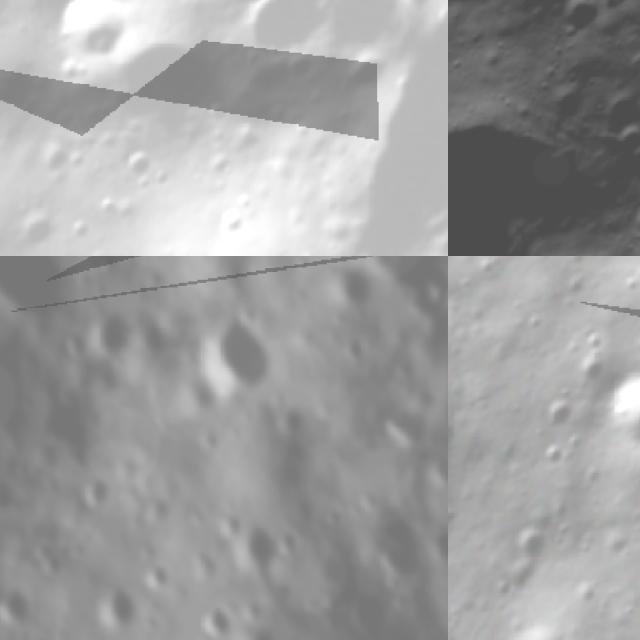crater: (448, 75, 606, 254), (42, 0, 162, 85), (200, 310, 286, 410), (228, 0, 333, 73), (586, 357, 640, 471), (0, 256, 90, 323), (369, 394, 430, 456), (586, 80, 640, 147), (508, 516, 566, 572), (330, 265, 382, 325), (91, 579, 142, 640), (542, 0, 607, 47), (9, 204, 63, 256), (448, 0, 506, 45), (535, 389, 586, 438), (0, 581, 46, 634), (117, 142, 163, 190), (568, 346, 612, 390), (196, 599, 238, 640), (420, 438, 448, 497), (587, 0, 640, 30), (82, 473, 120, 511), (620, 128, 640, 197), (621, 188, 640, 256), (0, 423, 16, 494), (0, 107, 18, 170)
